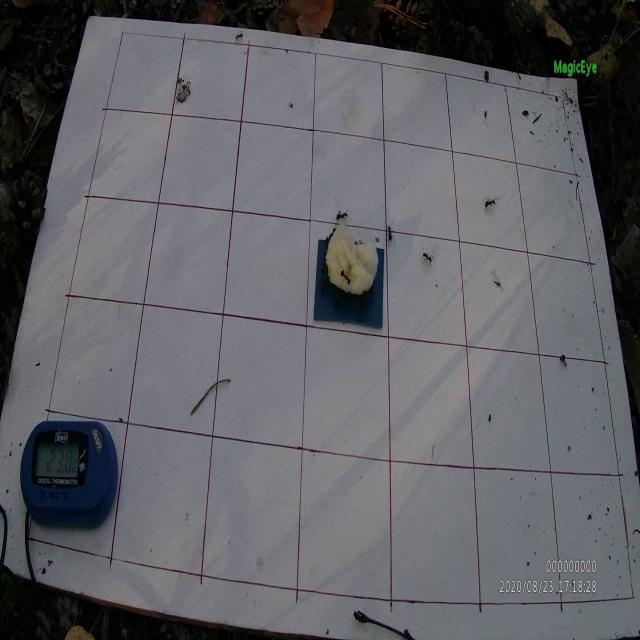Ant: (420, 244, 436, 267), (336, 264, 351, 287), (385, 223, 396, 248), (336, 208, 351, 224), (482, 198, 499, 212), (232, 31, 244, 44)
